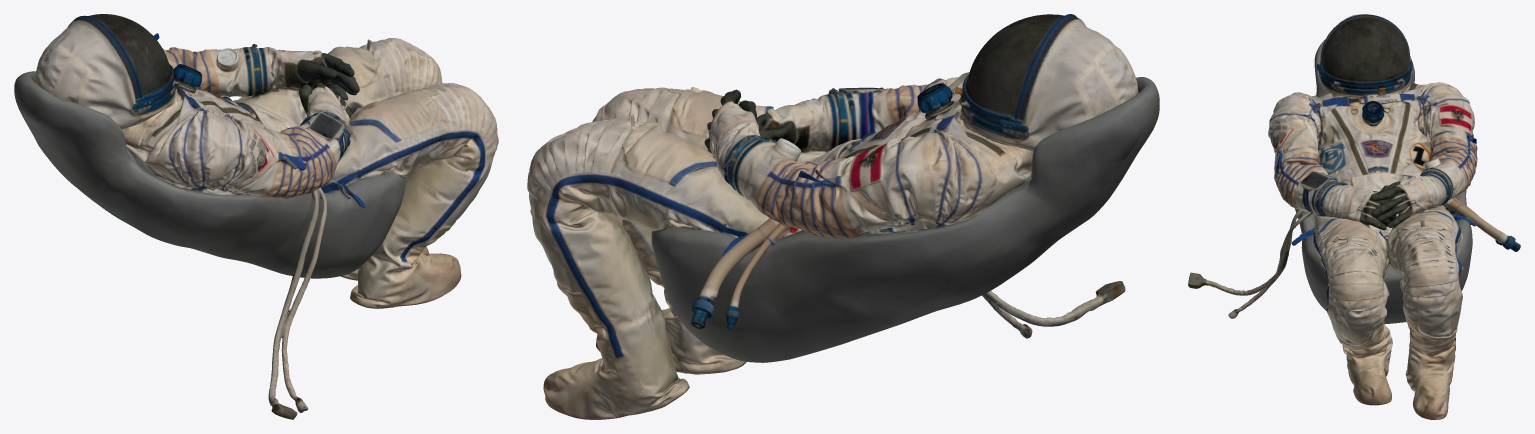
3 renders of one model, left to right at view 1: azimuth 30°, elevation 25°; view 2: azimuth 150°, elevation 25°; view 3: azimuth 270°, elevation 25°, orthographic. The views are drawn at different scales.
Bounding box in the file's own units: 1.69 × 1.28 × 1.42.
Materials: 1 (1 with a texture image).
